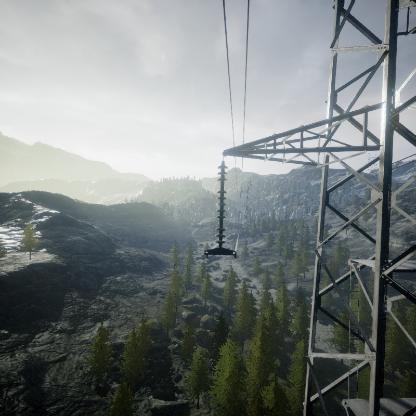insulator: (214, 160, 229, 247)
